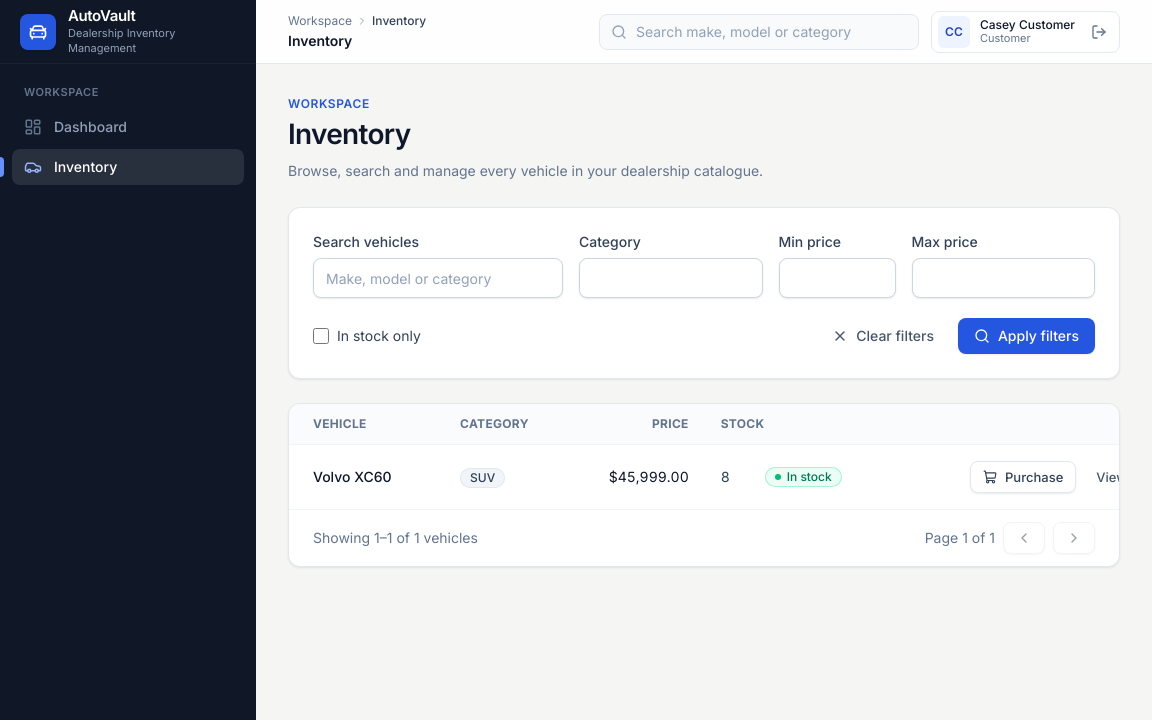
Test: purchasing from the inventory list › purchases one unit and shows the stock returned by the server
Click the button with aria-label "Purchase Volvo XC60" at (1023, 477), box 970,461 -> 1076,493
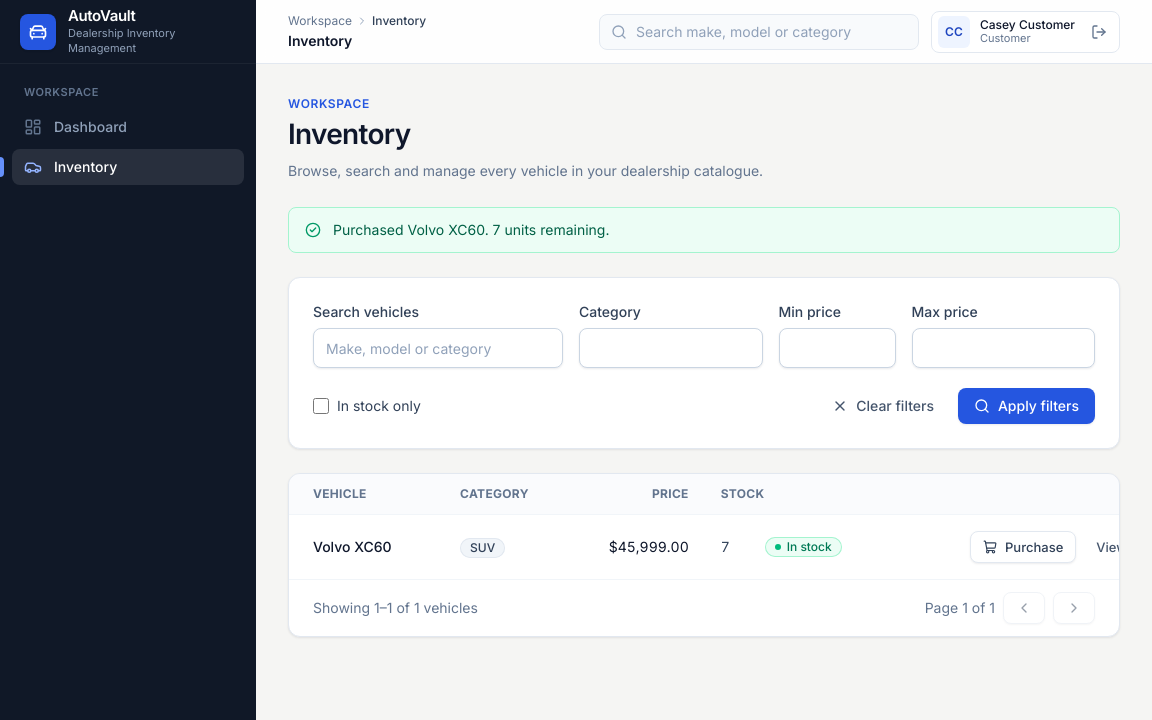
Expected: the text "7" is shown, 721,538 -> 730,555
Now the text "Purchased Volvo XC60. 7 units remaining." is shown, box 333,220 -> 610,240
